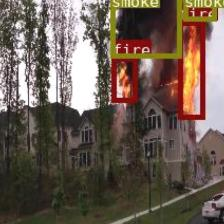fire: (177, 20, 204, 119), (111, 57, 136, 102)
smoke: (110, 0, 180, 57), (183, 0, 215, 20)
